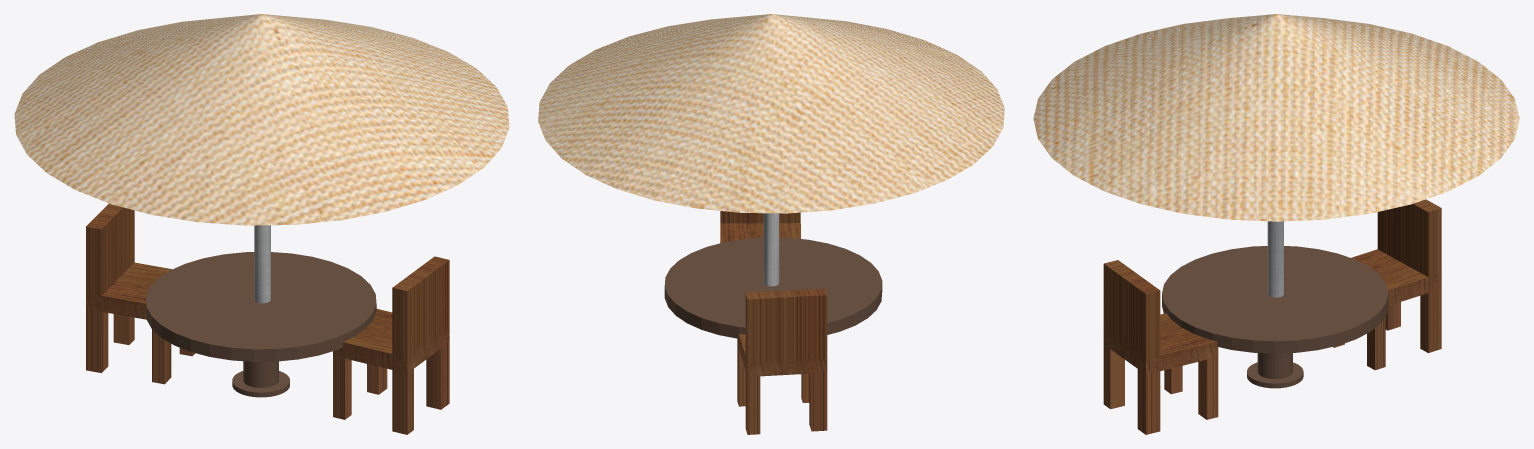
The model's file is MesaSombrilla.fbx.
The picture shows the model from 3 angles, left to right: view 1: azimuth 30°, elevation 25°; view 2: azimuth 150°, elevation 25°; view 3: azimuth 270°, elevation 25°; orthographic projection. The views are drawn at different scales.
Parts seen in each view (by area): view 1: piso.001; view 2: piso.001; view 3: piso.001.
Part boxes in pixels (x1,y1,x2,y2): piso.001: [14, 14, 509, 434]; piso.001: [538, 14, 1004, 434]; piso.001: [1033, 14, 1519, 434].
Bounding box in the file's own units: 141 × 117 × 141.
